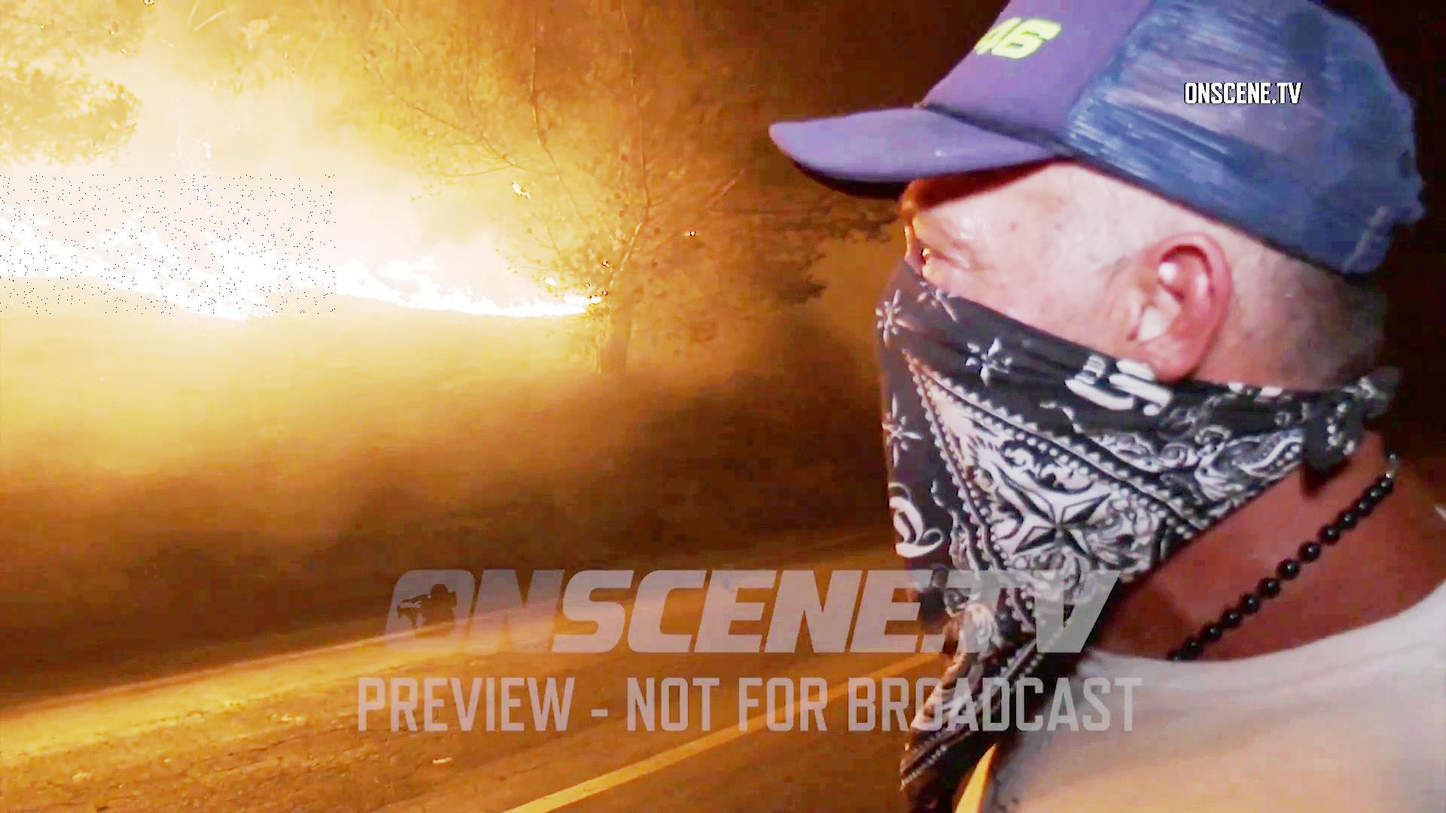fire: (0, 175, 335, 314)
